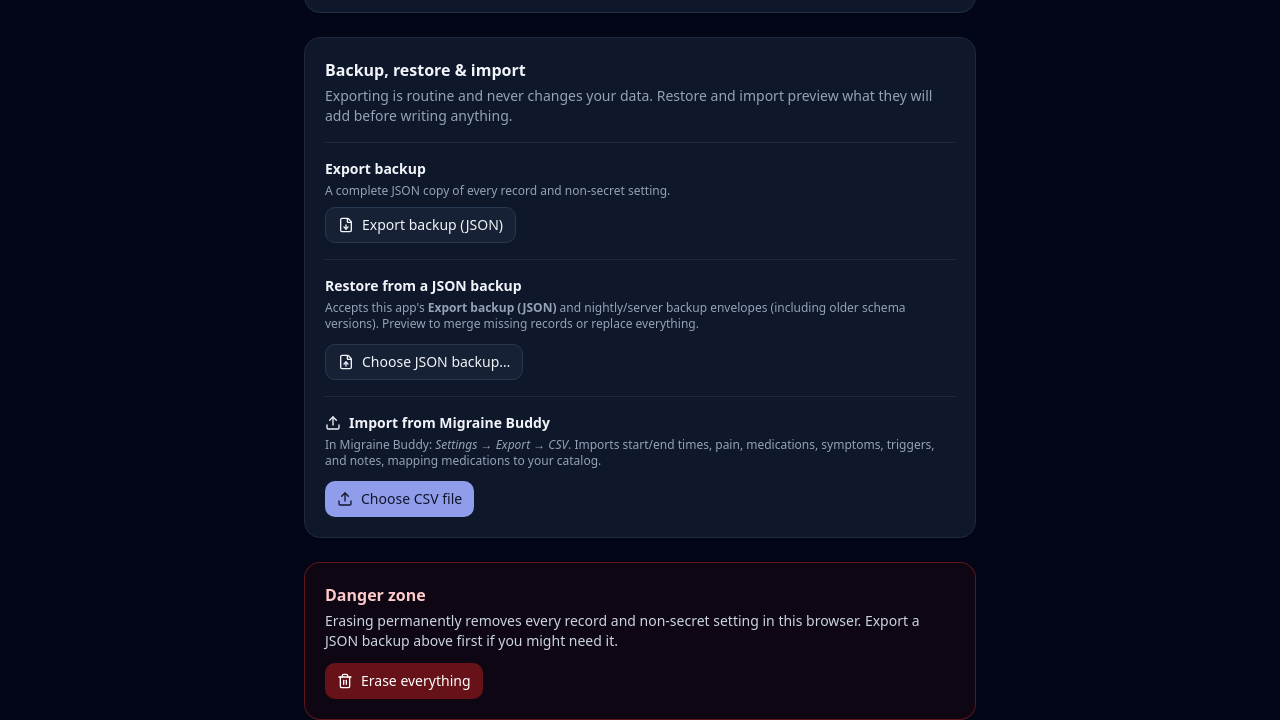
Test: Settings erase-everything copy › names the same scope without claiming server erasure in browser-only mode
(page scrolled)
Click the button "Erase everything": (404, 681) [325,663,482,699]
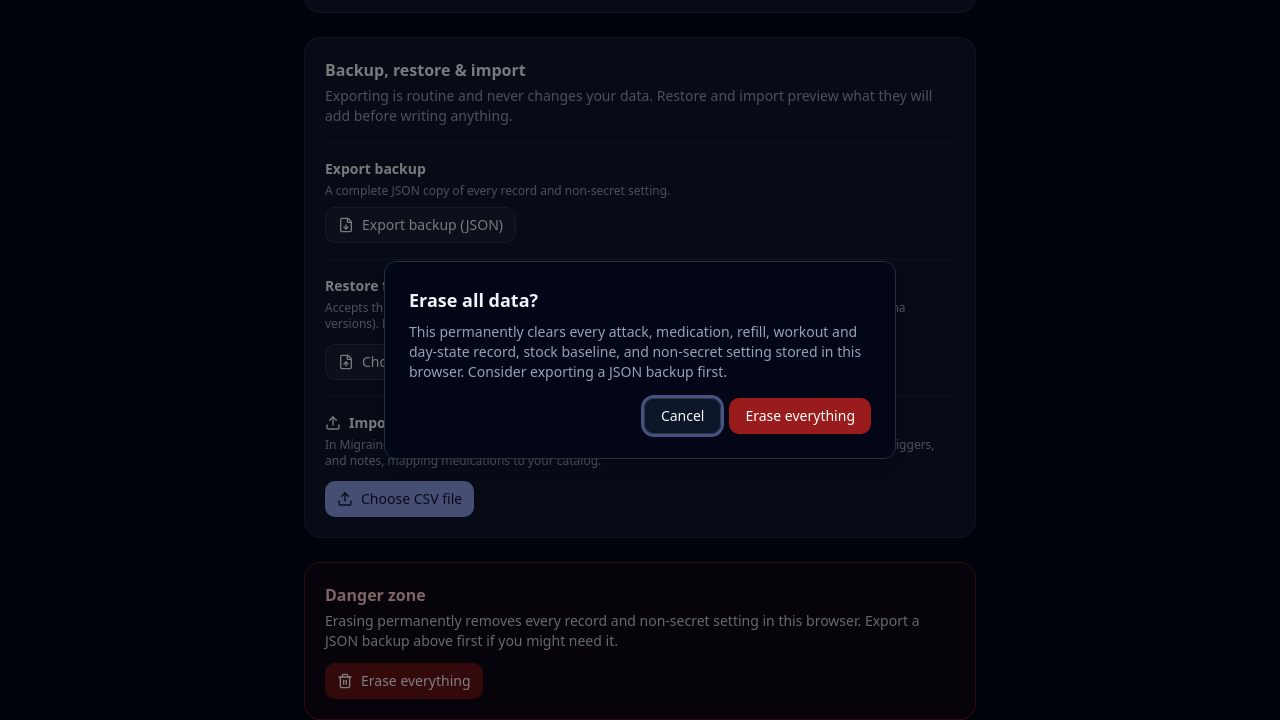
Check: the text "server" is not shown
Check: the text "every attack, medication, refill, workout and day-state record, stock baseline, and non-secret setting" is shown, box [409,322,861,381]
Check: the text "stored in this browser" is shown, box [409,322,861,381]
